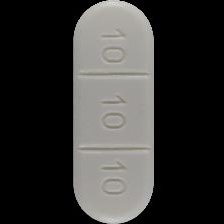61786-117: (0, 0, 224, 224)
